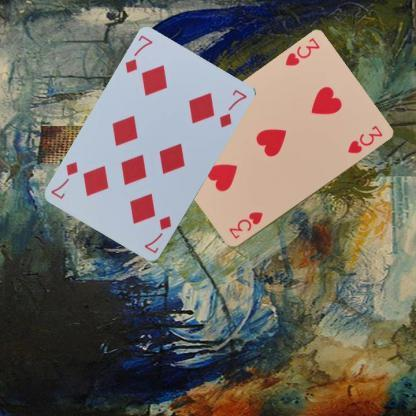3h: (282, 35, 322, 68), (226, 209, 264, 240)
7d: (122, 32, 154, 75), (142, 214, 172, 255)
